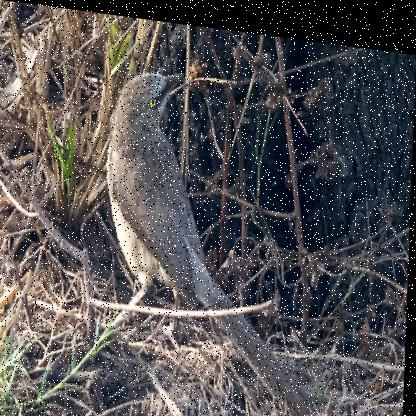Burung: (102, 60, 326, 412)
